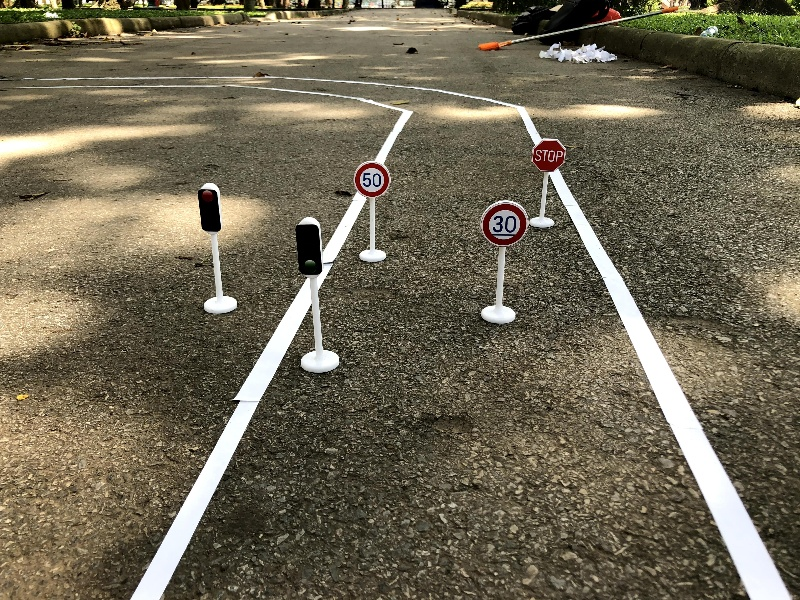Bien_bao_30: (474, 198, 530, 331)
Bien_bao_50: (349, 156, 403, 269)
Den_Do: (180, 178, 251, 321)
Den_Xanh: (283, 211, 348, 377)
Stop: (525, 134, 569, 233)
